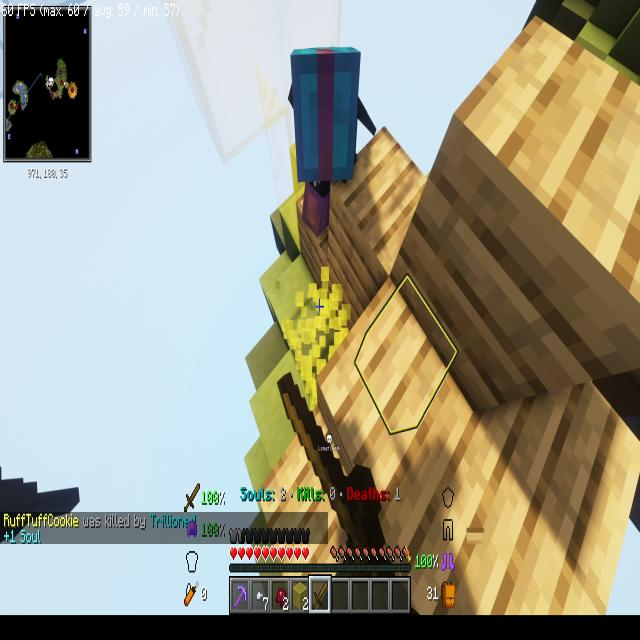Player: (276, 28, 376, 266)
